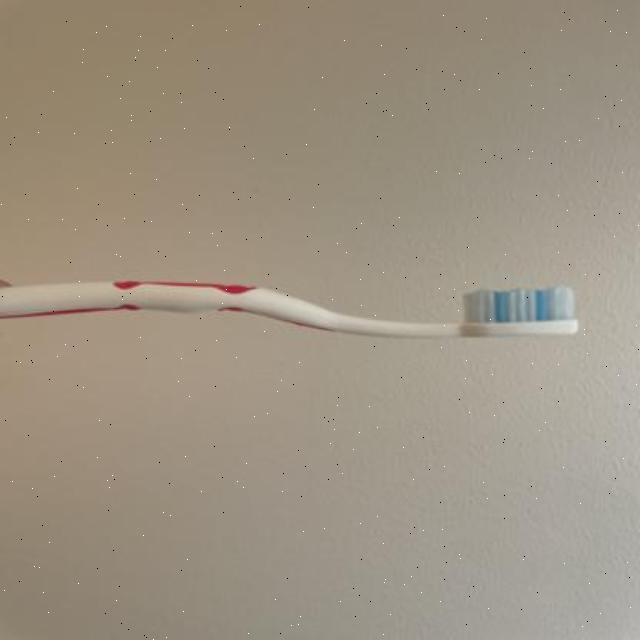toothbrush: (1, 265, 596, 351)
